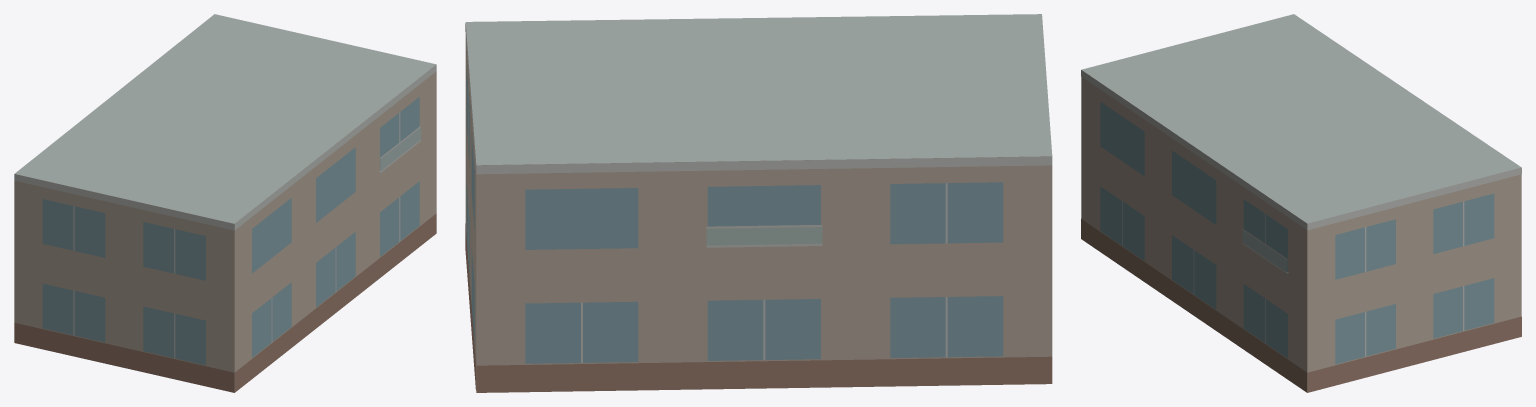
File: survey-upis-32623863.glb
3 renders of one model, left to right at view 1: azimuth 30°, elevation 25°; view 2: azimuth 150°, elevation 25°; view 3: azimuth 270°, elevation 25°, orthographic. The views are drawn at different scales.
Parts seen in each view (by area): view 1: survey-upis-32623863.tmp; view 2: survey-upis-32623863.tmp; view 3: survey-upis-32623863.tmp.
Part boxes in pixels (<box>): survey-upis-32623863.tmp: <box>14,14,436,392</box>; survey-upis-32623863.tmp: <box>465,14,1052,392</box>; survey-upis-32623863.tmp: <box>1081,14,1521,392</box>.
Size of the model in its own units: 16.21 by 6.1 by 14.4.
